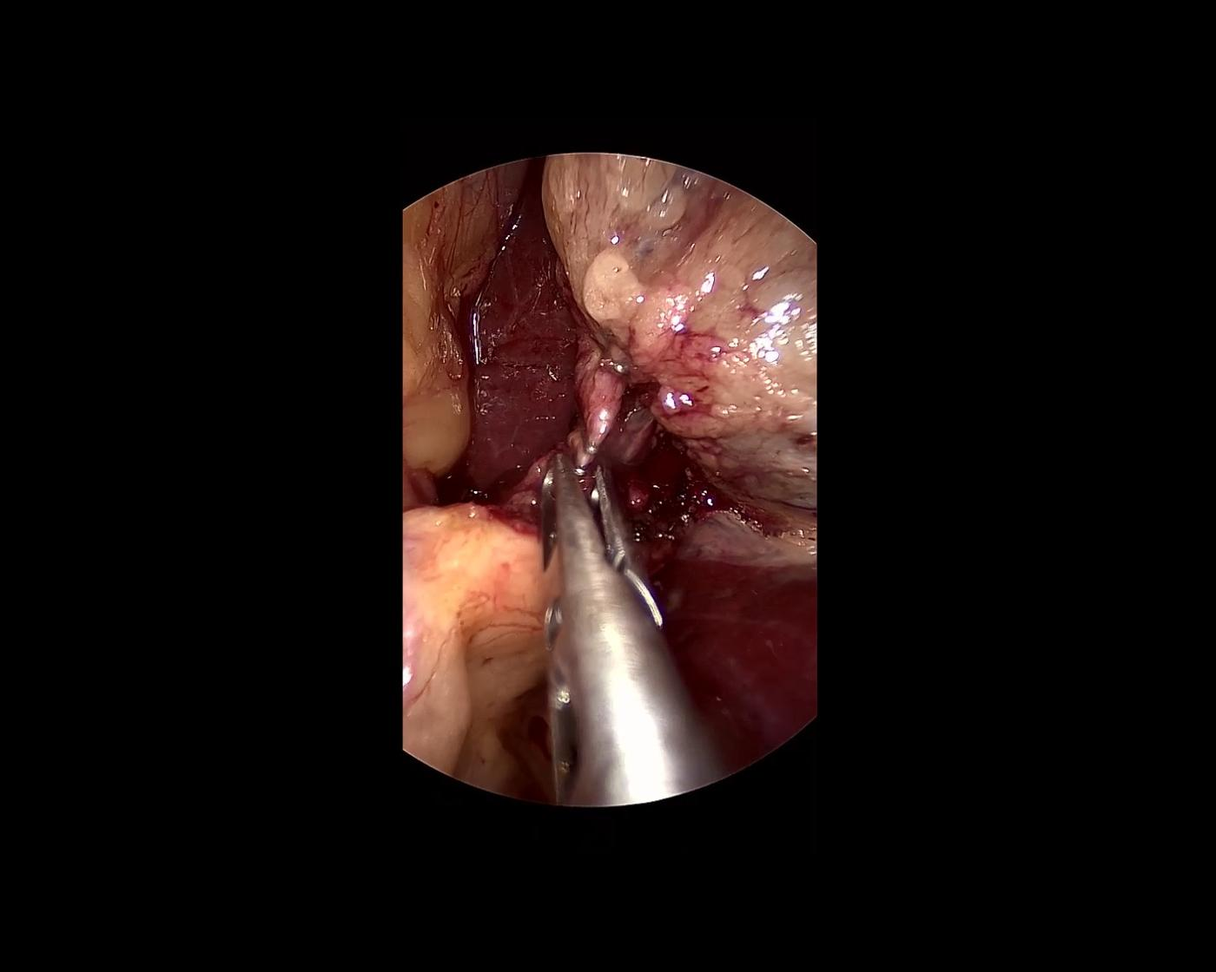Forceps: (507, 442, 722, 813)
Gallbladder: (536, 154, 816, 523)
Liver: (651, 524, 817, 778), (466, 198, 581, 493)
